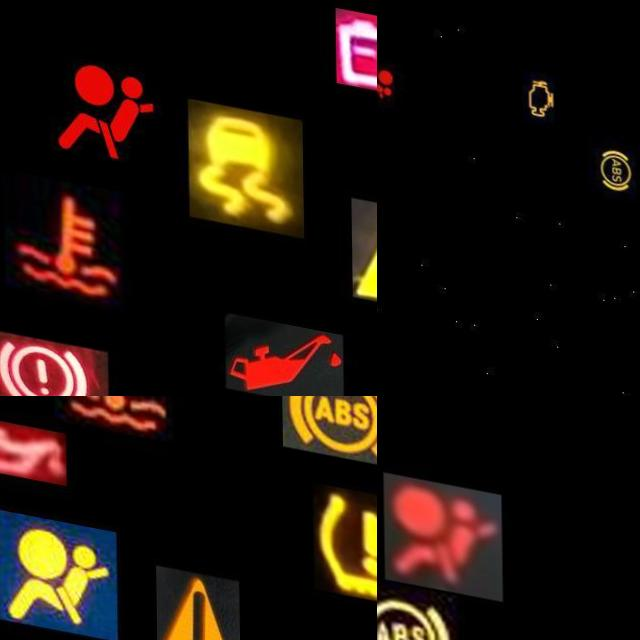Central Warning lamp: (154, 553, 239, 640), (350, 182, 377, 298)
Engine cooling system: (3, 168, 123, 304), (52, 396, 171, 430)
